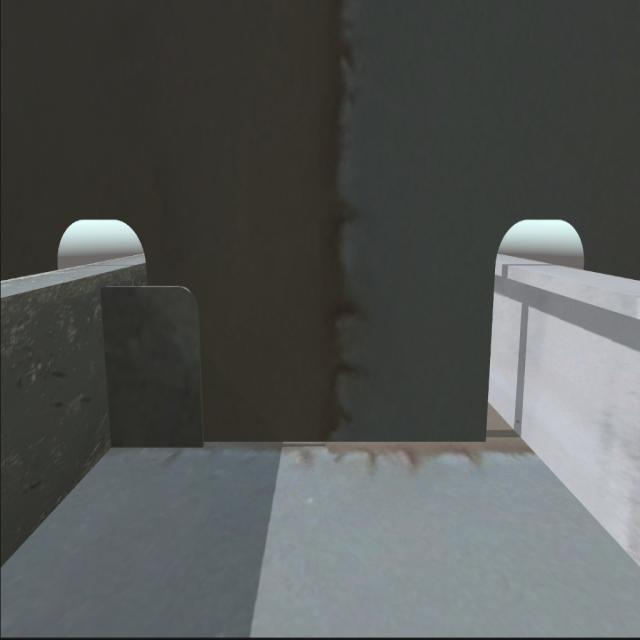fillet_yong_jeop_jang: (110, 421, 487, 456)
longi_yong_jeop_jang: (92, 289, 124, 447)
plate_CP05: (98, 280, 208, 456)
